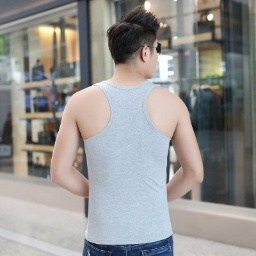face: (107, 10, 165, 79)
